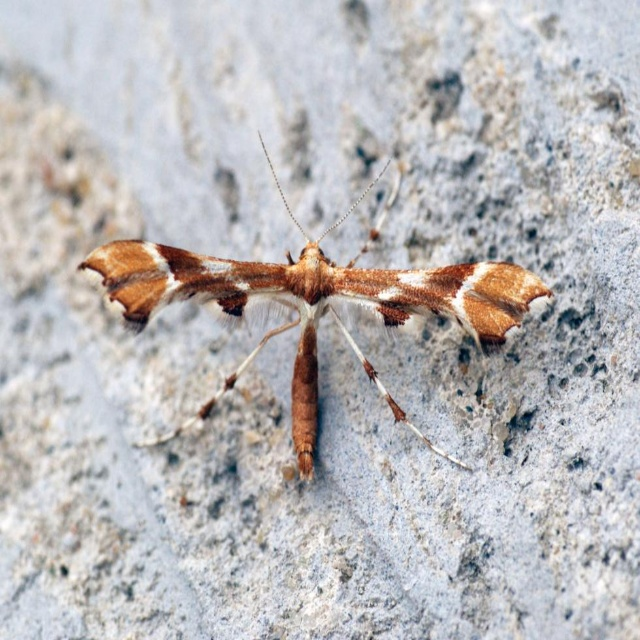Moths and butterflies: (74, 125, 563, 487)
